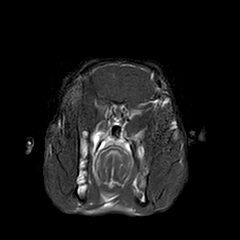Brain: (72, 26, 171, 124)
